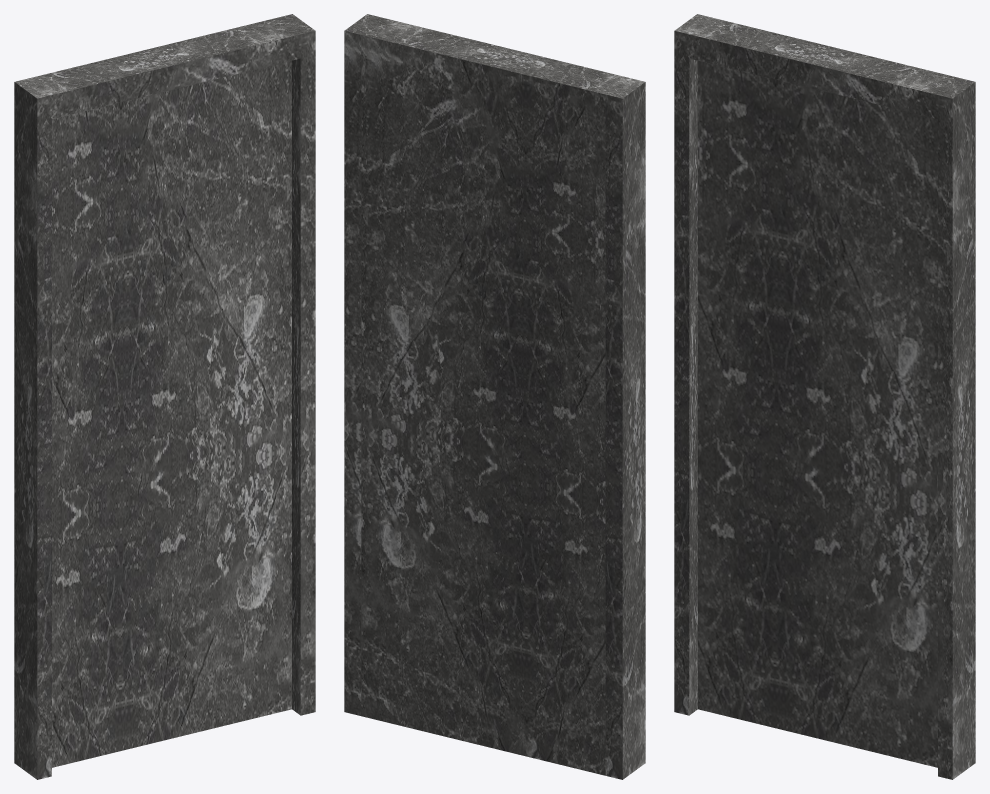
The model's file is door.glb.
3 views of the same model, side by side, from view 1: azimuth 30°, elevation 25°; view 2: azimuth 150°, elevation 25°; view 3: azimuth 330°, elevation 25° (orthographic).
Parts seen in each view (by area): view 1: Cube; view 2: Cube; view 3: Cube.
Boxes of the visible parts, x1,y1,x2,y2 form: Cube: (14,14,315,779); Cube: (344,14,645,779); Cube: (674,14,975,779).
Size of the model in its own units: 0.91 by 2.13 by 0.1297.
Materials: 1 (1 with a texture image).
